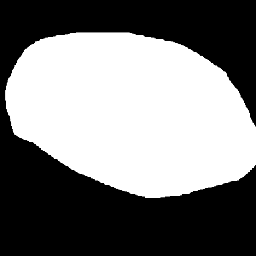mass: (12, 31, 249, 193)
